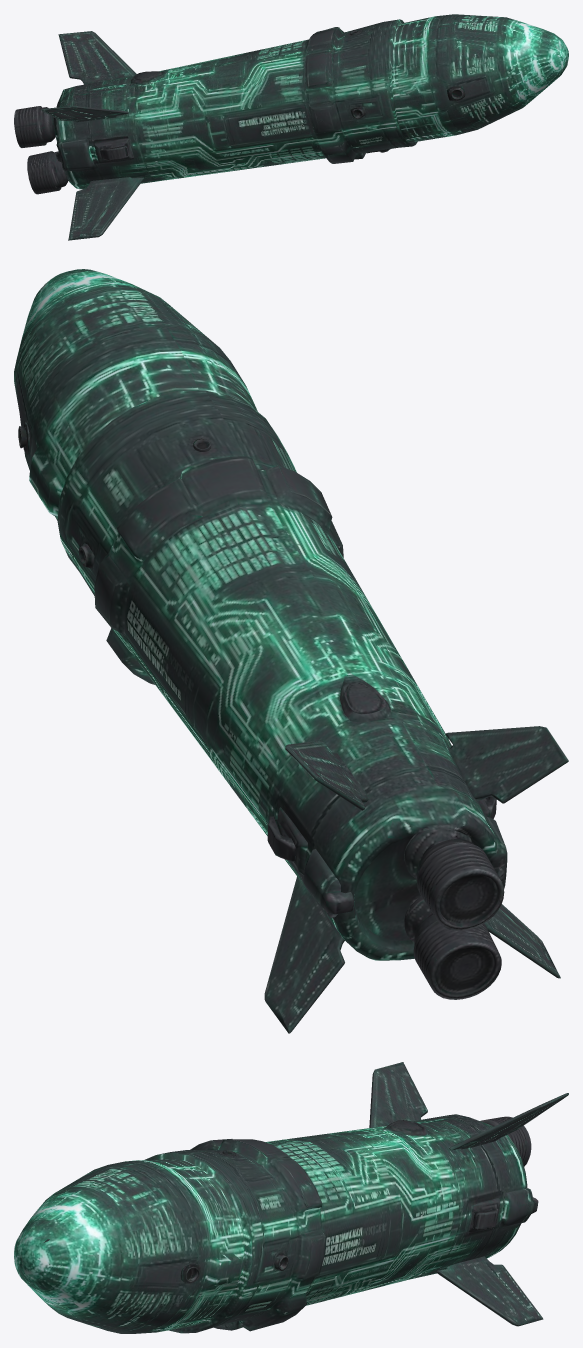
Rendered from ICBM_tripo.glb.
3 views of the same model, one above another, from view 1: azimuth 30°, elevation 25°; view 2: azimuth 150°, elevation 25°; view 3: azimuth 270°, elevation 25° (orthographic). The views are drawn at different scales.
Visible parts, largest first — view 1: tripo_node_d7fe45d8-ab01-4653-b681-f911251450dc; view 2: tripo_node_d7fe45d8-ab01-4653-b681-f911251450dc; view 3: tripo_node_d7fe45d8-ab01-4653-b681-f911251450dc.
Part boxes in pixels (box(x1,y1,x2,y2)): tripo_node_d7fe45d8-ab01-4653-b681-f911251450dc: box(14, 14, 568, 240); tripo_node_d7fe45d8-ab01-4653-b681-f911251450dc: box(14, 269, 568, 1033); tripo_node_d7fe45d8-ab01-4653-b681-f911251450dc: box(14, 1062, 568, 1333).
Bounding box in the file's own units: 0.9995 × 0.5083 × 0.8335.
Materials: 1 (1 with a texture image).
